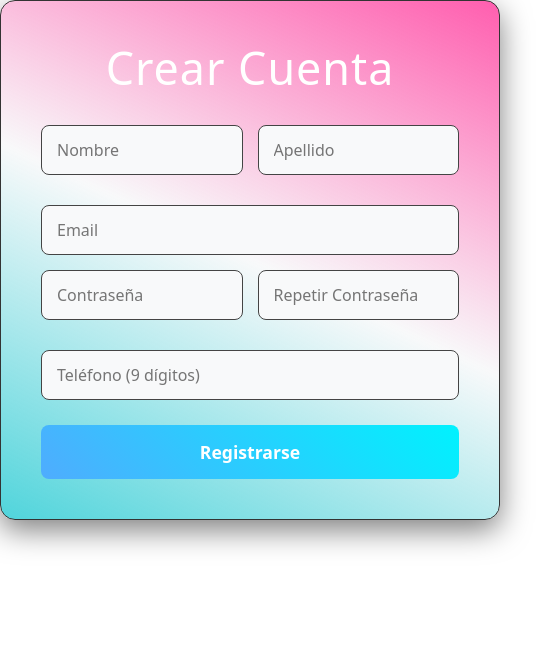
Scenario: Registro de usuarios › muestra error si el nombre tiene menos de 3 letras
In the field with placeholder "Nombre": {"x": 142, "y": 150} [41,125,242,175], type "Jo"
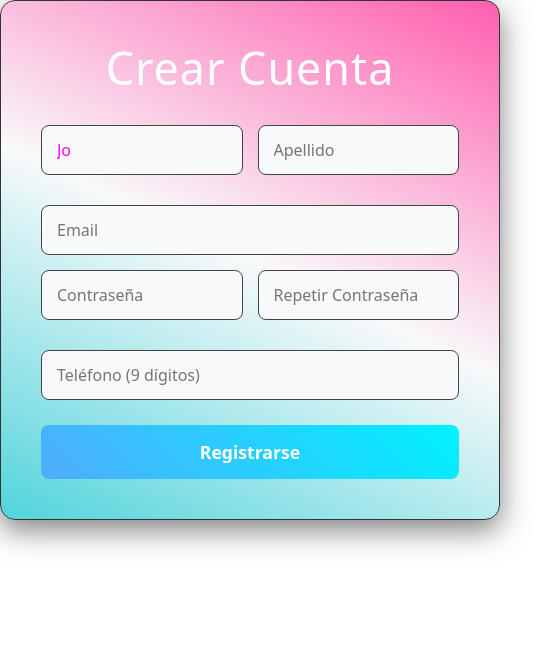
Click the button "Registrarse": {"x": 250, "y": 452} [41,425,459,479]
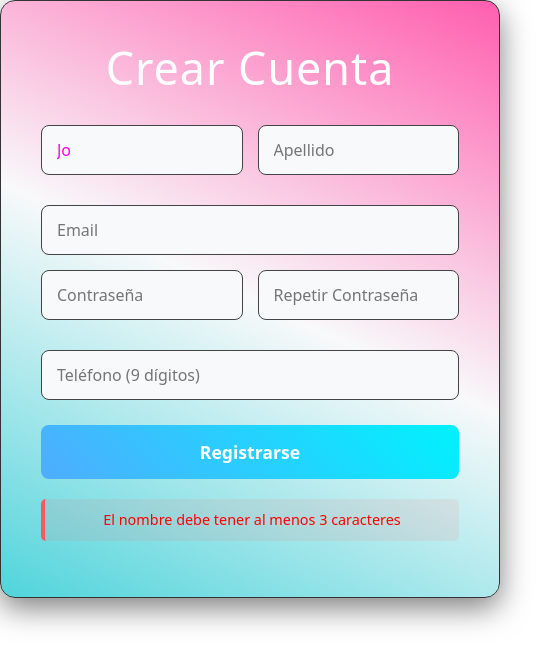
Expected: the text "El nombre debe tener al menos 3 caracteres" is shown, [41,499,459,541]
